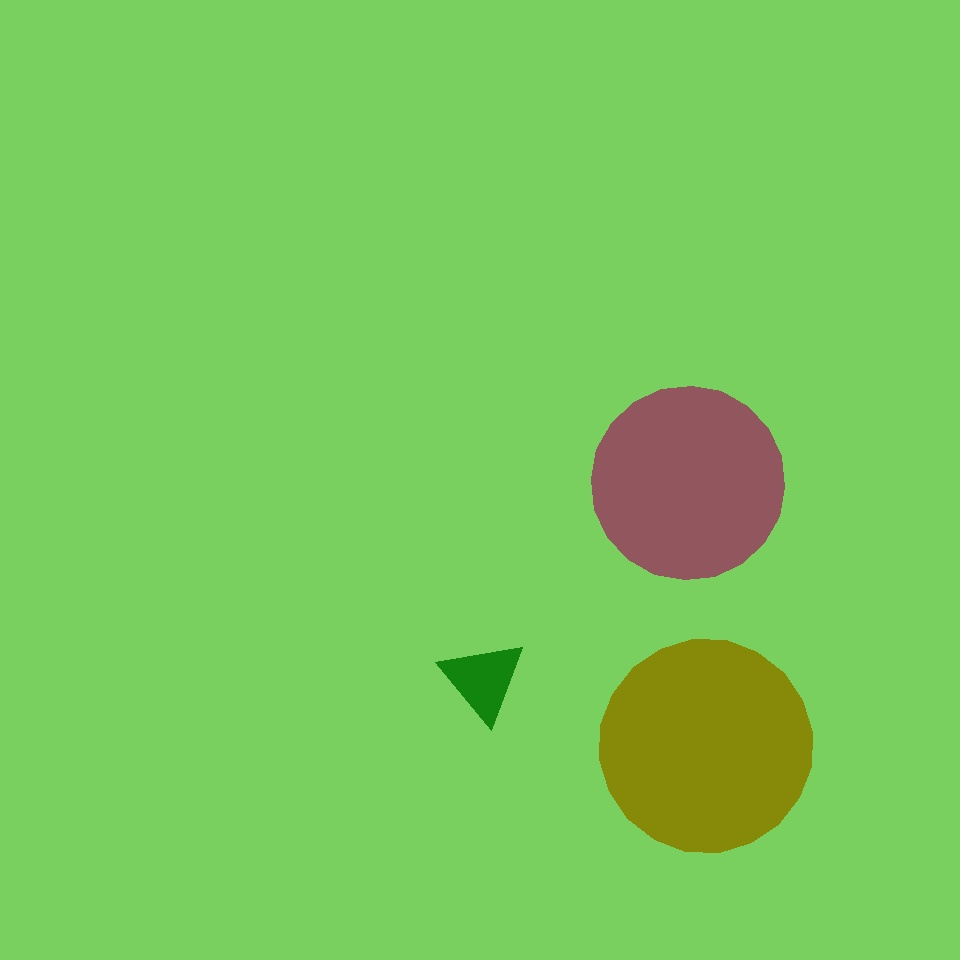circle: (440, 638, 526, 722)
triangle: (600, 640, 813, 852), (592, 387, 784, 580)
